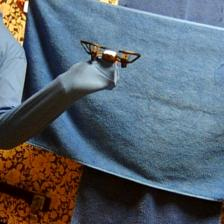drone: (79, 40, 142, 70)
